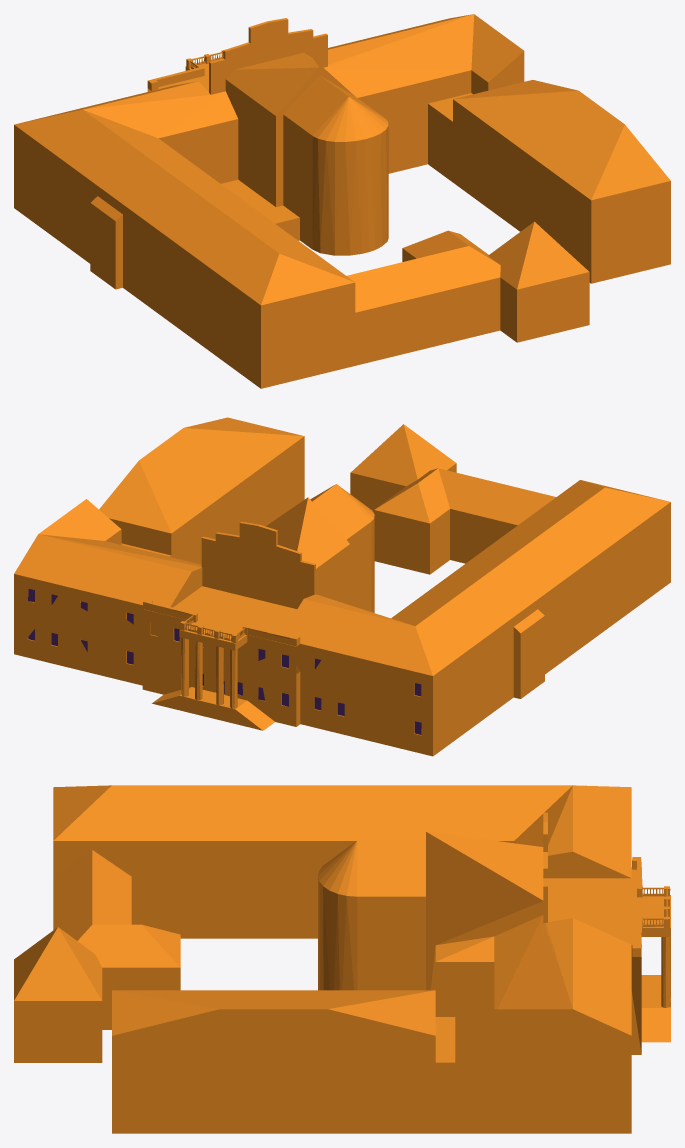
File: Muzeum MalczewskiegoV2.fbx
3 views of the same model, one above another, from view 1: azimuth 30°, elevation 25°; view 2: azimuth 150°, elevation 25°; view 3: azimuth 270°, elevation 25° (orthographic). The views are drawn at different scales.
Visible parts, largest first — view 1: Muzueum_głó_obj_0; view 2: Muzueum_głó_obj_0; view 3: Muzueum_głó_obj_0.
Part boxes in pixels (<box>): Muzueum_głó_obj_0: <box>14,14,670,388</box>; Muzueum_głó_obj_0: <box>14,417,670,756</box>; Muzueum_głó_obj_0: <box>14,785,670,1133</box>.
Bounding box in the file's own units: 38.8 × 13.41 × 42.61.
Materials: 1 (1 with a texture image).
